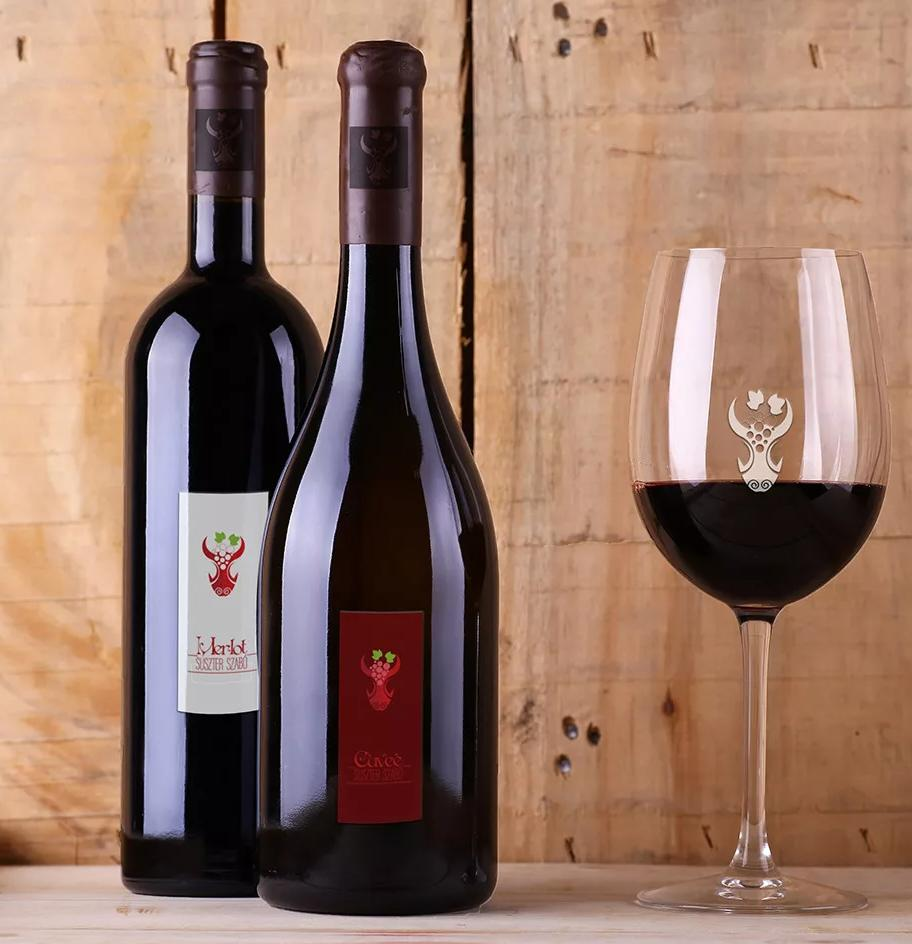wine bottle: (255, 38, 499, 916), (121, 38, 329, 903)
wine label: (179, 491, 272, 716), (340, 611, 426, 824)
